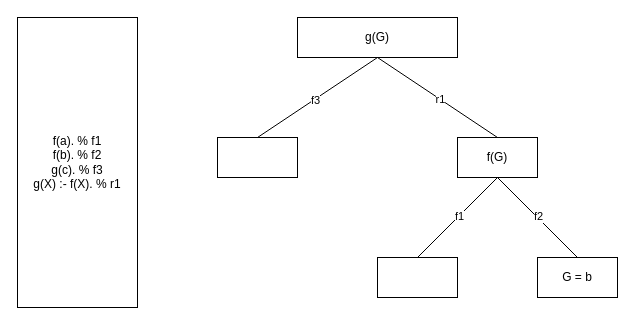
Image size: 635x325. Some labels were removed from this diagram. Each missing label, with the centre of its shape:
G = a: the point at 417,277
G = c: the point at 257,157
